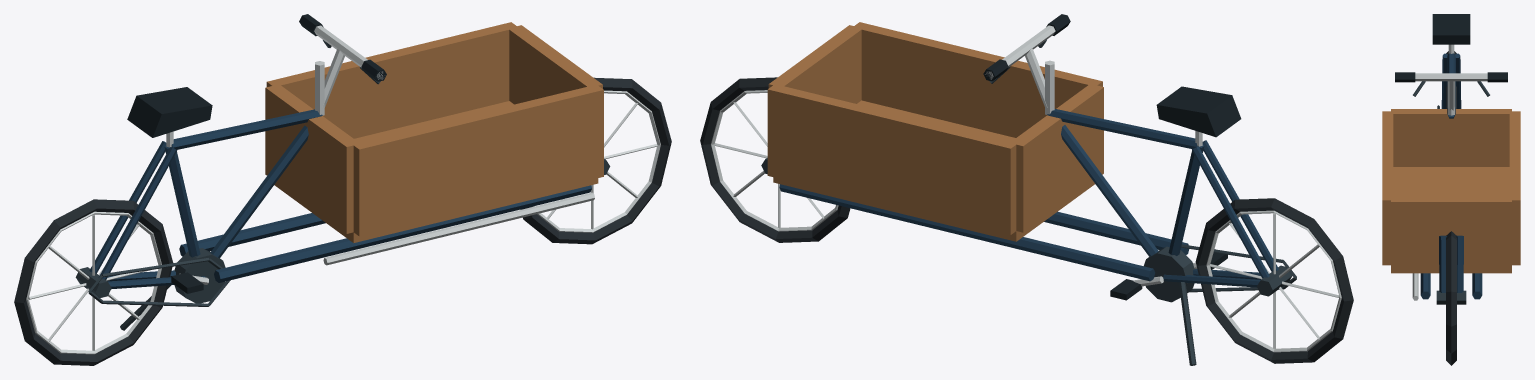
The model's file is b03_front_box_cargo_bicycle.glb.
3 views of the same model, side by side, from view 1: azimuth 30°, elevation 25°; view 2: azimuth 150°, elevation 25°; view 3: azimuth 270°, elevation 25° (orthographic). The views are drawn at different scales.
Parts seen in each view (by area): view 1: b03_front_box_cargo_bicycle; view 2: b03_front_box_cargo_bicycle; view 3: b03_front_box_cargo_bicycle.
Boxes of the visible parts, left/top/right/bottom form: b03_front_box_cargo_bicycle: left=14, top=14, right=671, bottom=365; b03_front_box_cargo_bicycle: left=700, top=14, right=1353, bottom=365; b03_front_box_cargo_bicycle: left=1382, top=14, right=1520, bottom=365.
Size of the model in its own units: 2.85 by 1.09 by 0.695.
